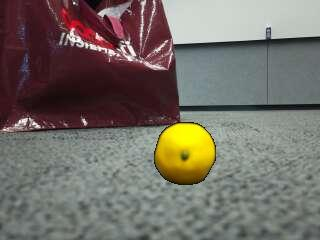lemon: (156, 123, 216, 184)
